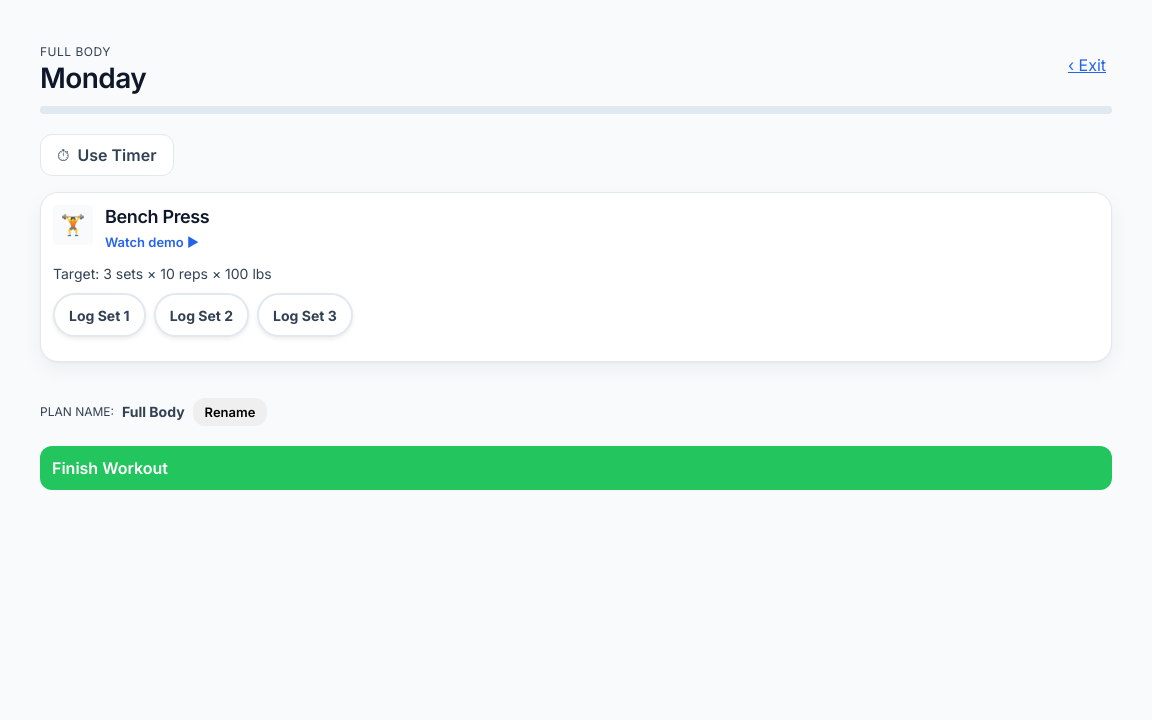
Scenario: ActiveWorkout › Standalone manual timer › clicking Start begins the countdown (button becomes Pause)
This screenshot has width=1152, height=720.
What coordinates should you click on to do the following:
click the button "⏱ Use Timer"
I would click on:
 (107, 155)
Its box is 40,134 -> 174,176.
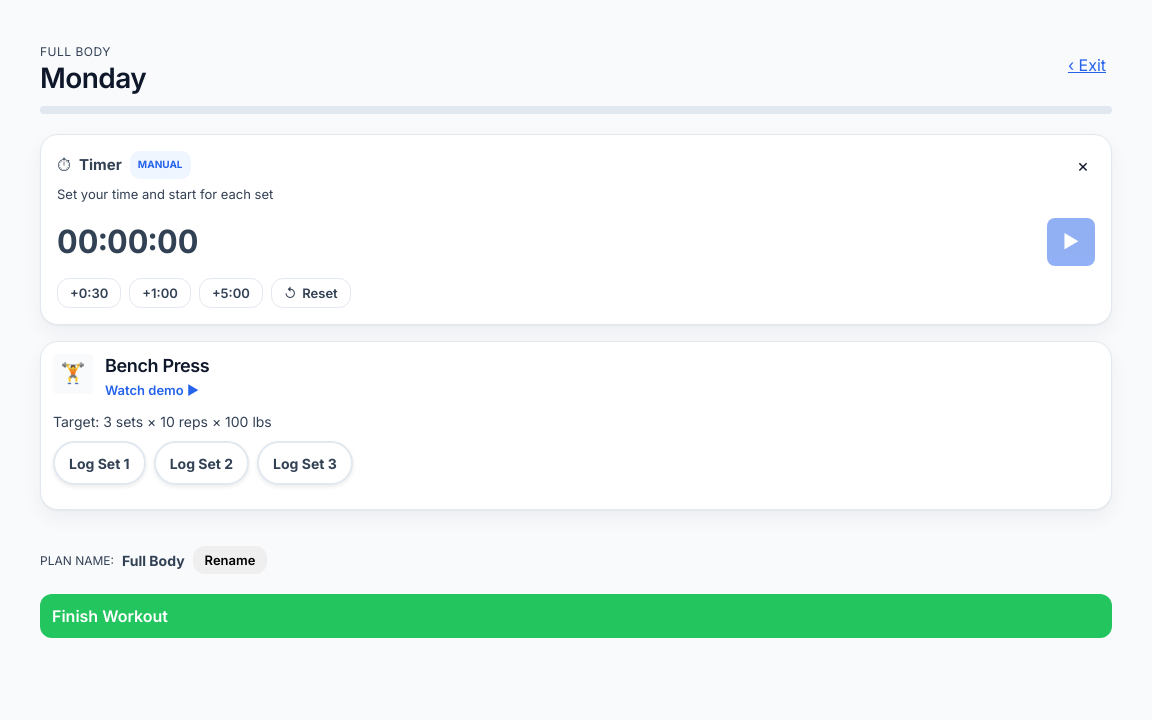
What coordinates should you click on to do the following:
click the button "+1:00"
I would click on:
 (160, 293)
Its box is 129,278 -> 191,308.
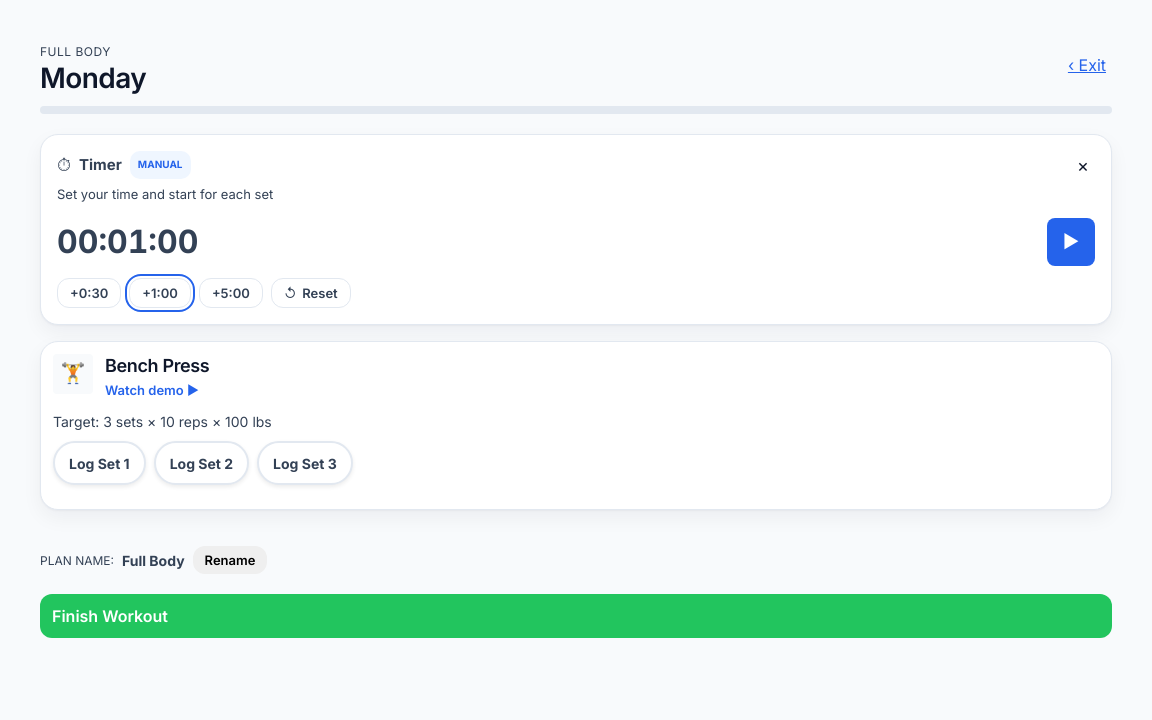
What coordinates should you click on to do the following:
click the button named "Start timer"
I would click on:
 (1071, 242)
Its box is 1047,218 -> 1095,266.
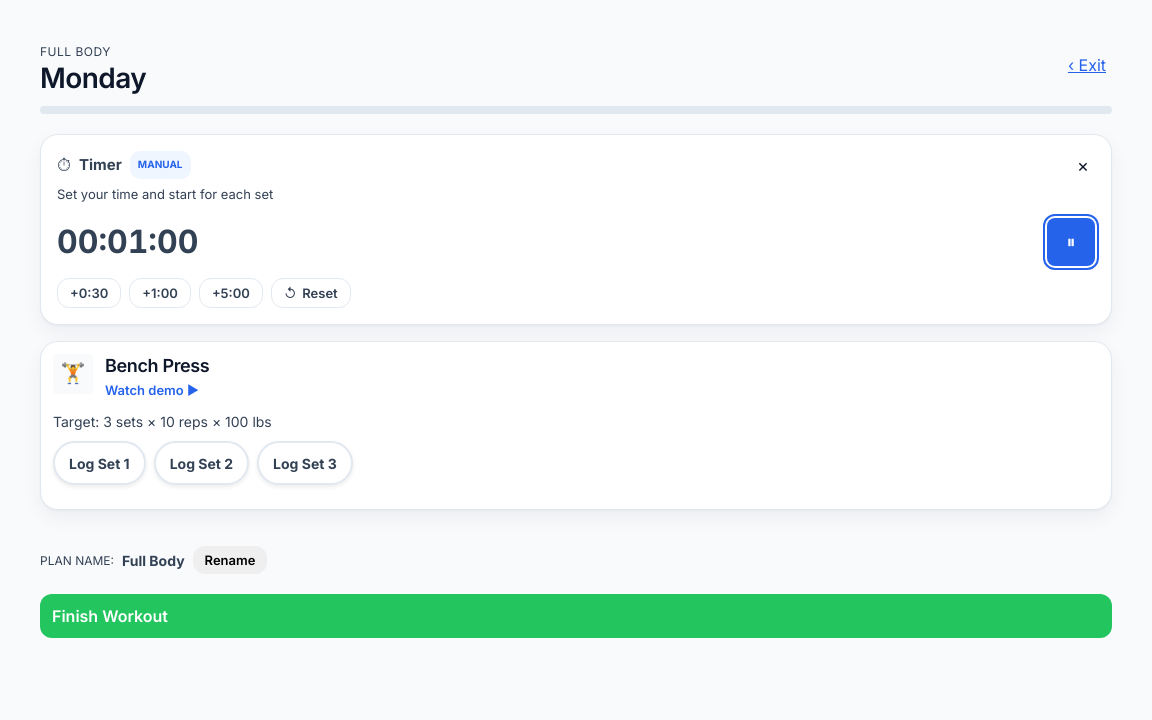
Result: the button named "Pause timer" is shown at 1047,218 -> 1095,266
